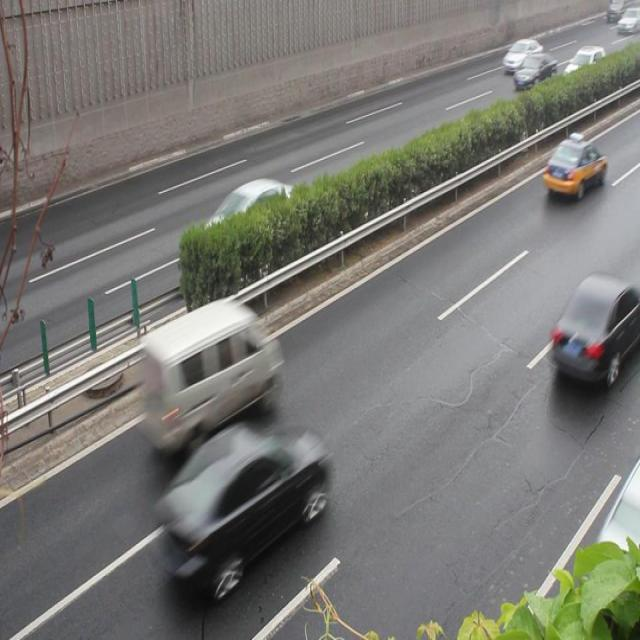car: (158, 422, 320, 587), (546, 270, 630, 382), (194, 175, 300, 255), (540, 132, 605, 195), (510, 51, 552, 88)
